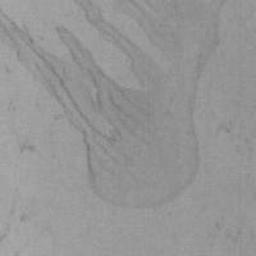Water spot: (0, 0, 223, 204)
